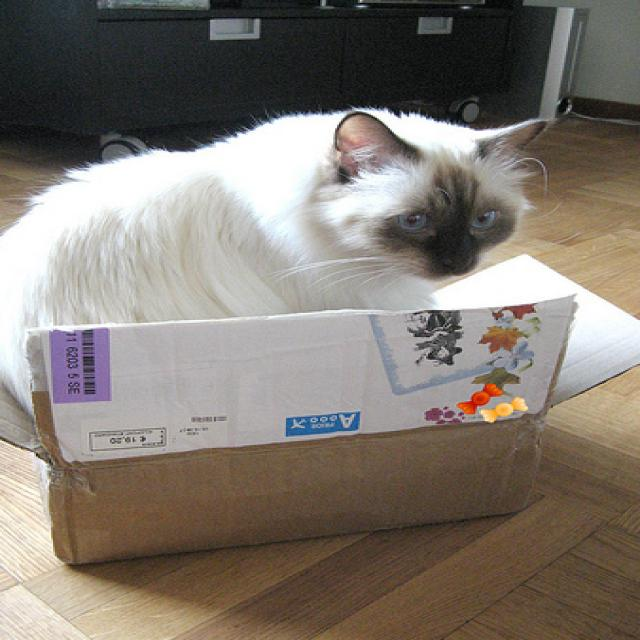Birman: (0, 101, 551, 314)
